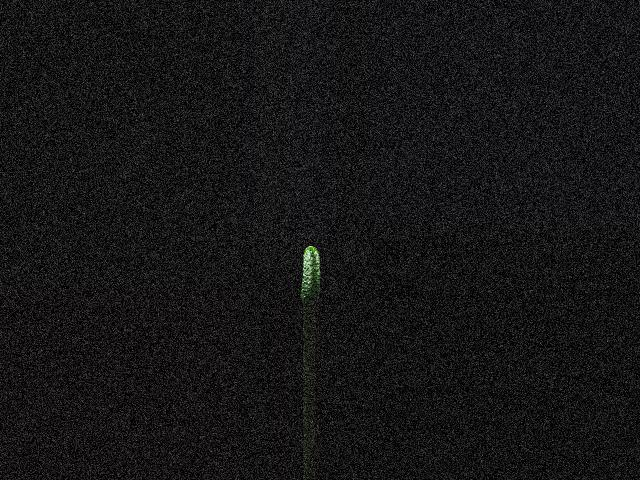cucumber: (299, 245, 320, 304)
